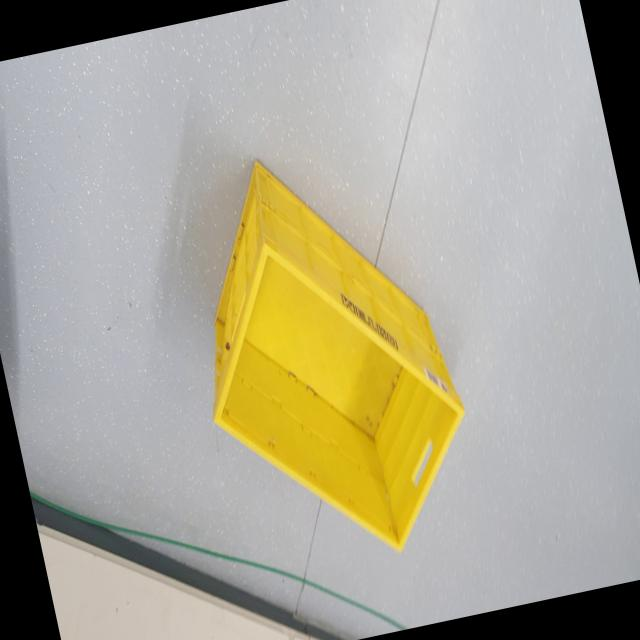box: (154, 109, 496, 602)
